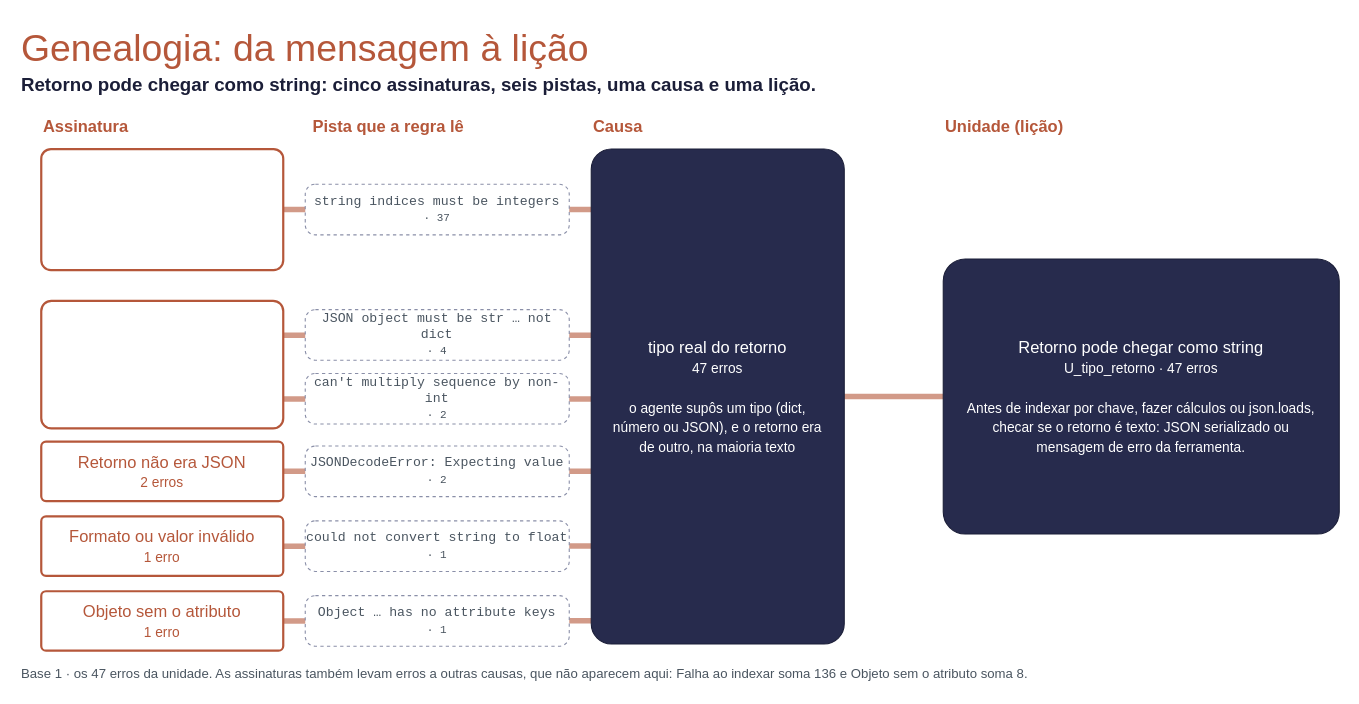
The diagram is 1359 pixels wide and 704 high, and some of its shapes have lost their labels. The shapes that lost their labels are listed below. From the top down, each one's centre as x and y in pixels, then its label:
point 162,209: Falha ao indexar o retorno (Could not index) 37 erros
point 162,364: Tipo diferente do esperado 6 erros
